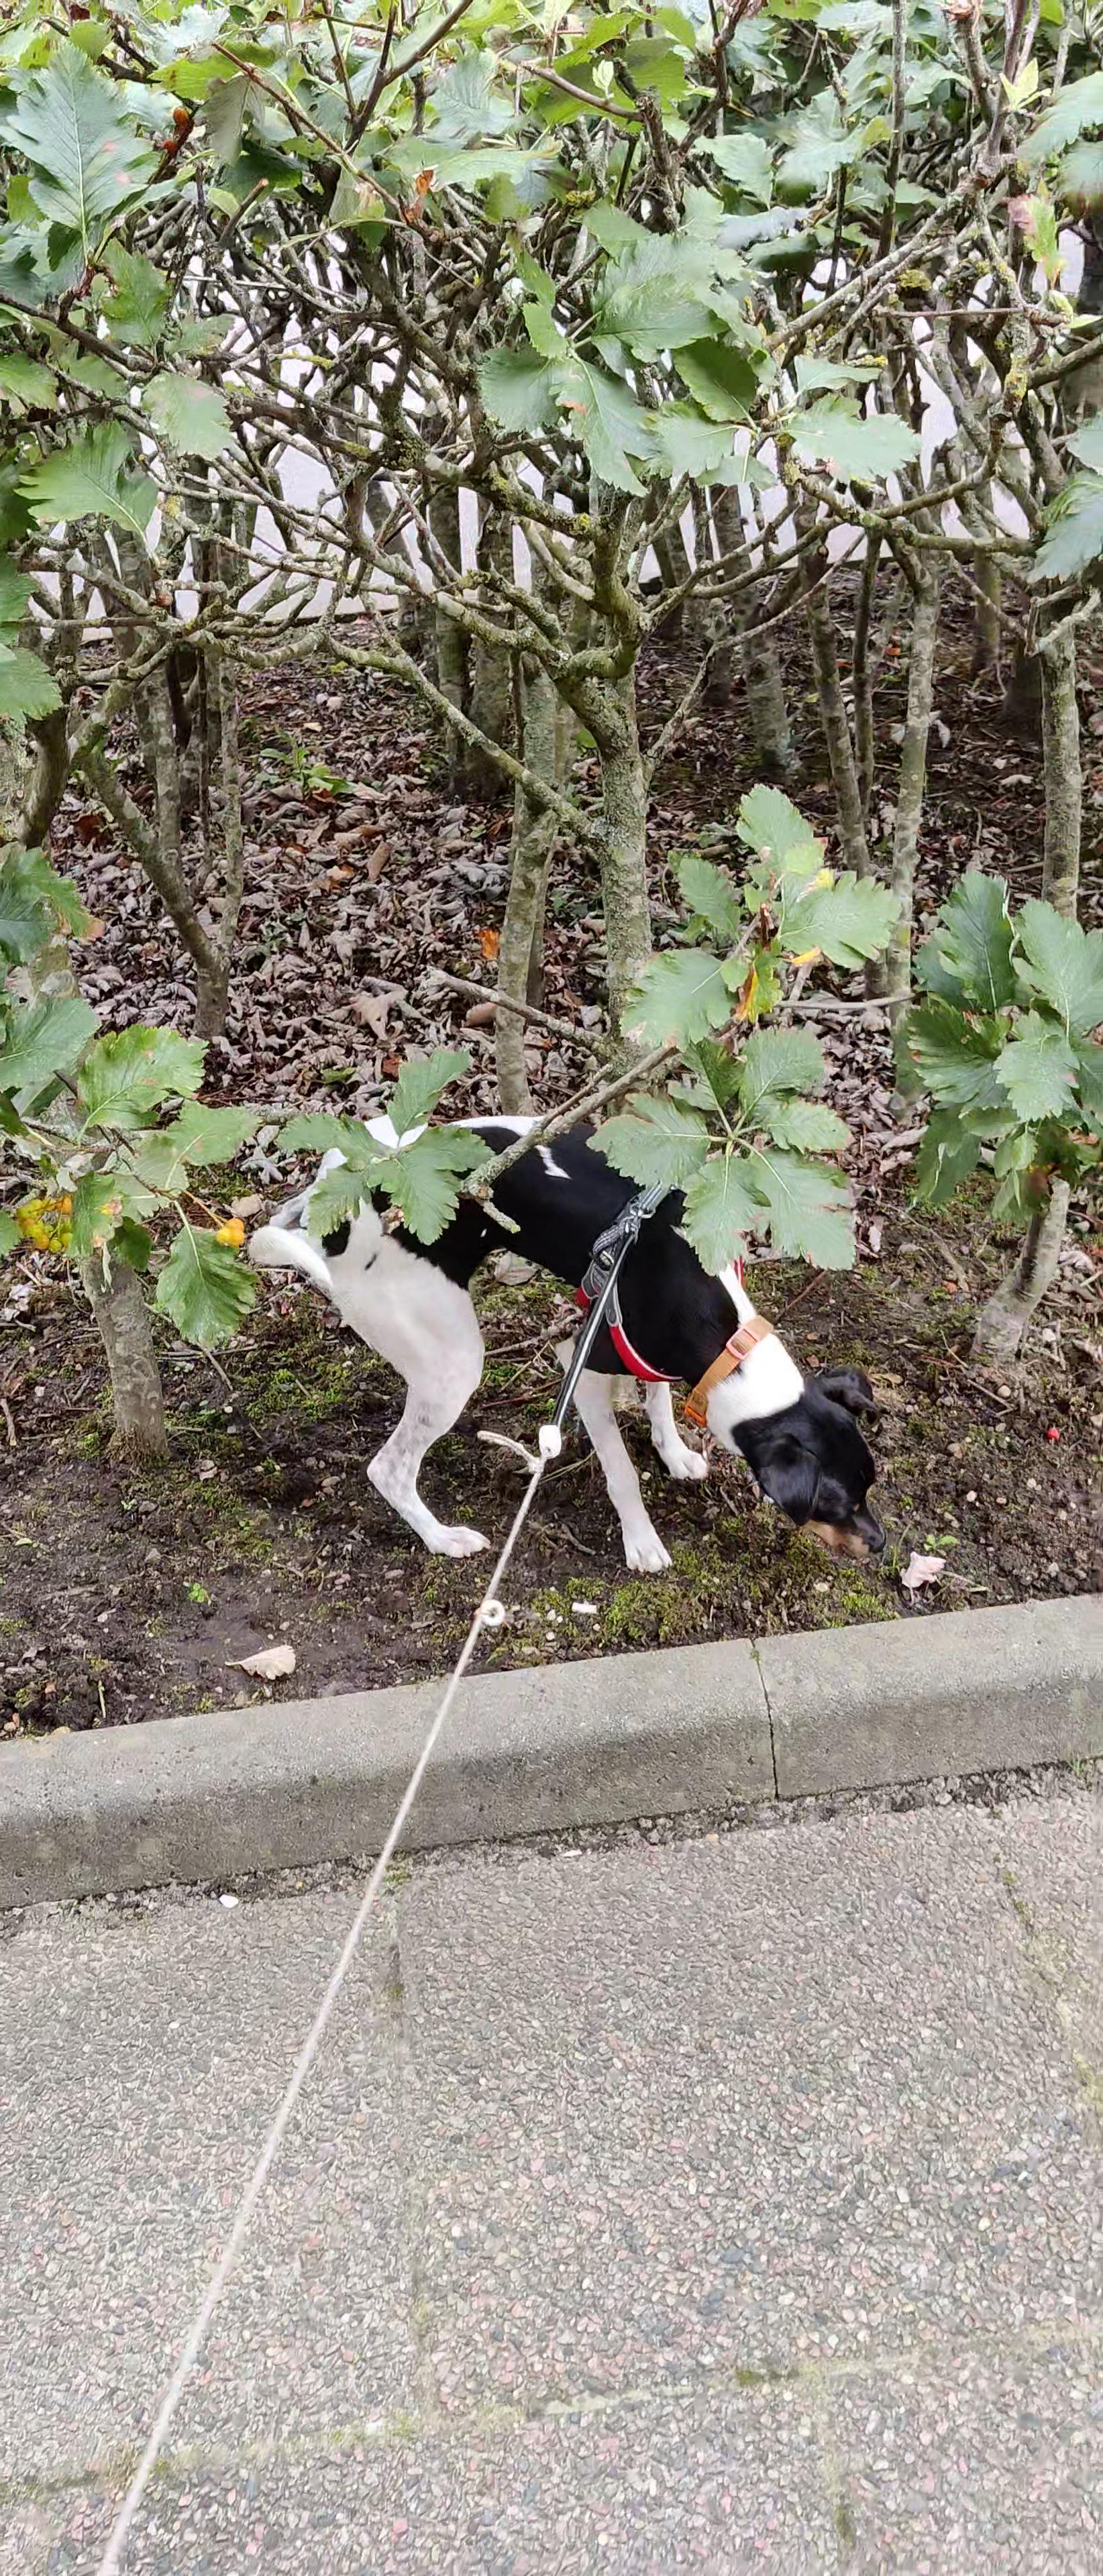Dog: (233, 1106, 891, 1579)
